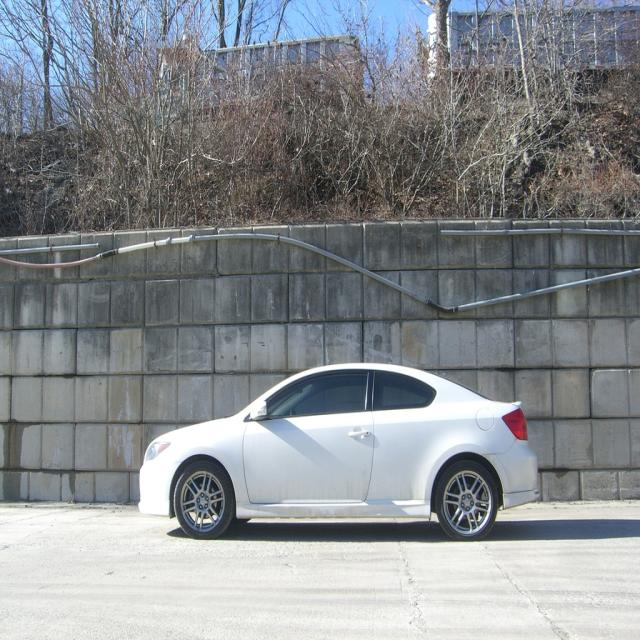car: (136, 359, 541, 541)
